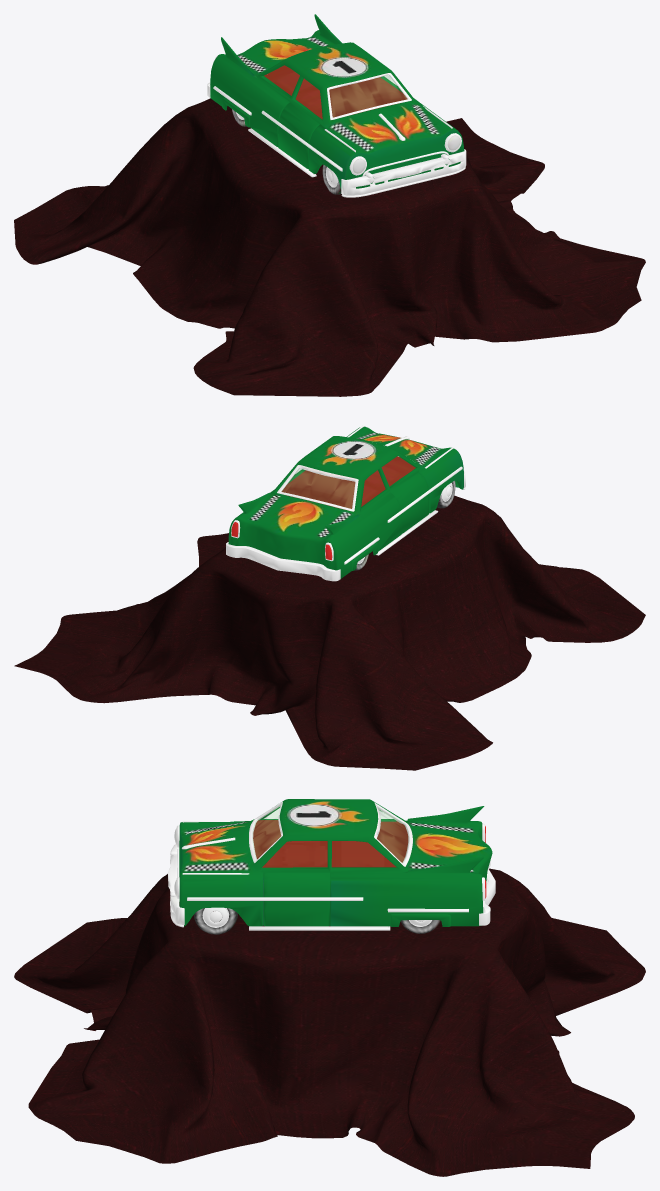
File: toy_car.glb
The picture shows the model from 3 angles, top to bottom: view 1: azimuth 30°, elevation 25°; view 2: azimuth 150°, elevation 25°; view 3: azimuth 270°, elevation 25°; orthographic projection. The views are drawn at different scales.
Visible parts, largest first — view 1: Fabric, ToyCar, Glass; view 2: Fabric, ToyCar, Glass; view 3: Fabric, ToyCar, Glass.
Boxes of the visible parts, left/top/right/bottom form: Fabric: left=14, top=98, right=645, bottom=396; ToyCar: left=207, top=14, right=466, bottom=197; Glass: left=329, top=75, right=406, bottom=116; Fabric: left=14, top=495, right=645, bottom=770; ToyCar: left=226, top=425, right=465, bottom=581; Glass: left=282, top=469, right=354, bottom=508; Fabric: left=14, top=868, right=645, bottom=1176; ToyCar: left=168, top=799, right=495, bottom=934; Glass: left=252, top=806, right=409, bottom=862.
Size of the model in its own units: 0.0734 by 0.0288 by 0.074.
3 materials, 2 textured.
